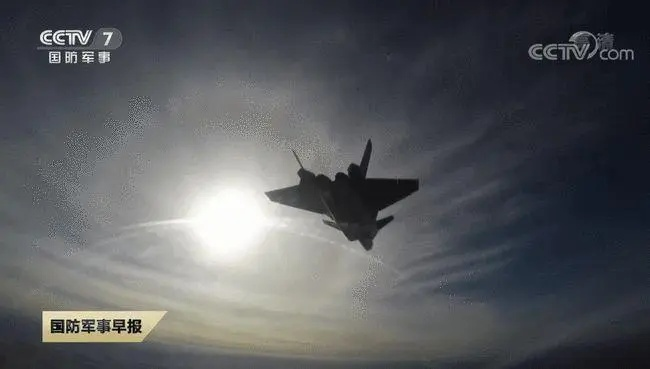J20: (264, 138, 420, 252)
